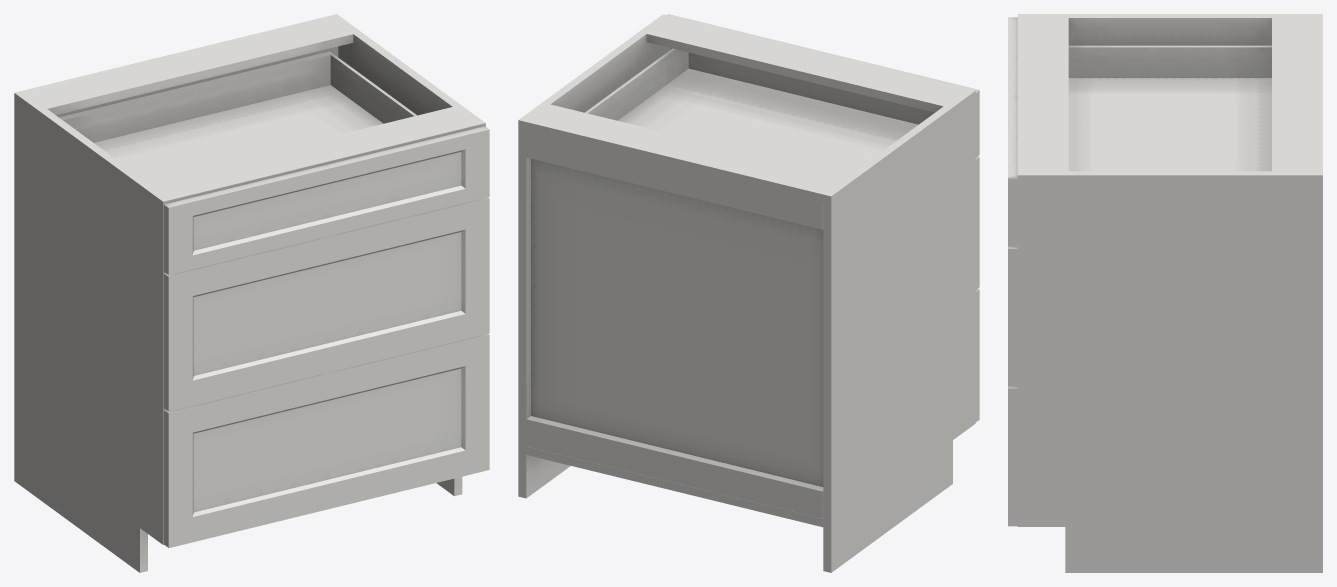
File: 3-drawer-bank-base-doors-on.glb
3 renders of one model, left to right at view 1: azimuth 30°, elevation 25°; view 2: azimuth 150°, elevation 25°; view 3: azimuth 270°, elevation 25°, orthographic. The views are drawn at different scales.
Parts seen in each view (by area): view 1: part_30, part_0, part_2; view 2: part_0, part_2, part_30; view 3: part_0, part_2, part_30.
Part boxes in pixels (x1,y1,x2,y2): part_30: (164, 126, 489, 547); part_0: (14, 14, 485, 572); part_2: (59, 51, 416, 181); part_0: (518, 14, 975, 572); part_2: (585, 48, 918, 176); part_30: (667, 14, 979, 422); part_0: (1017, 14, 1322, 572); part_2: (1068, 45, 1271, 171); part_30: (1008, 17, 1017, 526).
Bounding box in the file's own units: 0.762 × 0.8763 × 0.6286.
Materials: 3 (2 with a texture image).
